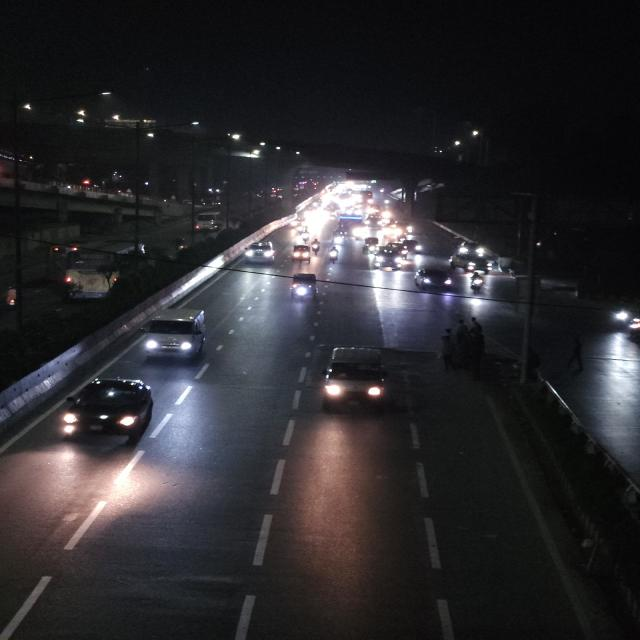bus: (59, 251, 120, 303), (195, 211, 221, 234)
car: (56, 372, 156, 448), (318, 342, 392, 417), (136, 305, 210, 365), (412, 266, 456, 294), (452, 252, 497, 276), (242, 238, 278, 266), (372, 246, 403, 274)
cng: (287, 272, 323, 302), (290, 242, 314, 267), (360, 238, 377, 255)
motorcycle: (468, 271, 486, 296), (326, 246, 342, 266), (309, 239, 321, 255)
pedestrian: (462, 318, 490, 367), (434, 331, 462, 372), (566, 334, 588, 377)
